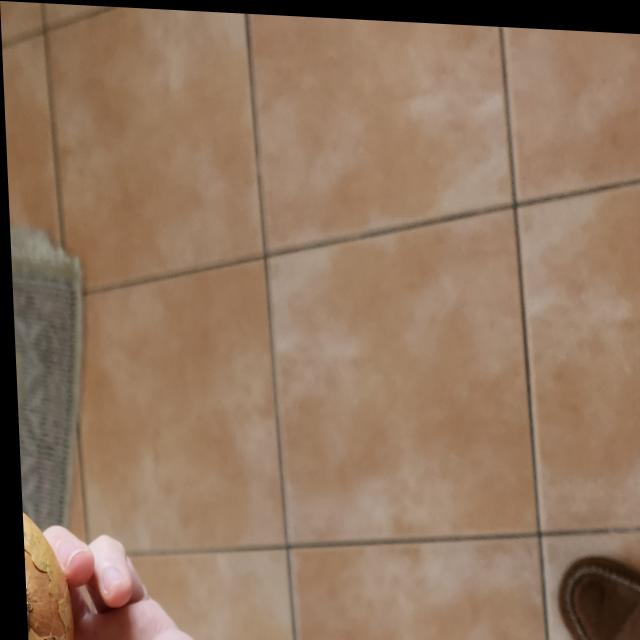brown onion: (17, 492, 64, 640)
